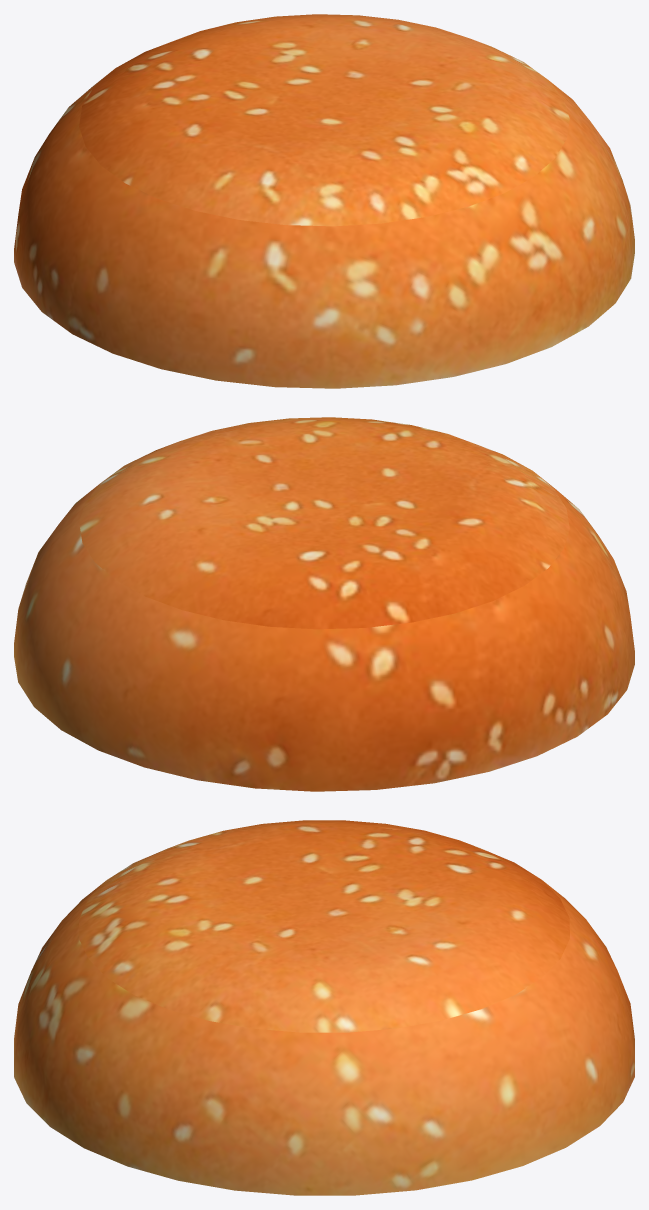
Rendered from bovenkant broodje We are cooked.fbx.
3 renders of one model, top to bottom at view 1: azimuth 30°, elevation 25°; view 2: azimuth 150°, elevation 25°; view 3: azimuth 270°, elevation 25°, orthographic.
Visible parts, largest first — view 1: bovenkant broodje.003; view 2: bovenkant broodje.003; view 3: bovenkant broodje.003.
Part boxes in pixels (x1,y1,x2,y2): bovenkant broodje.003: [14, 14, 634, 388]; bovenkant broodje.003: [14, 417, 634, 791]; bovenkant broodje.003: [14, 820, 634, 1195].
Size of the model in its own units: 9.95 by 3 by 9.95.
